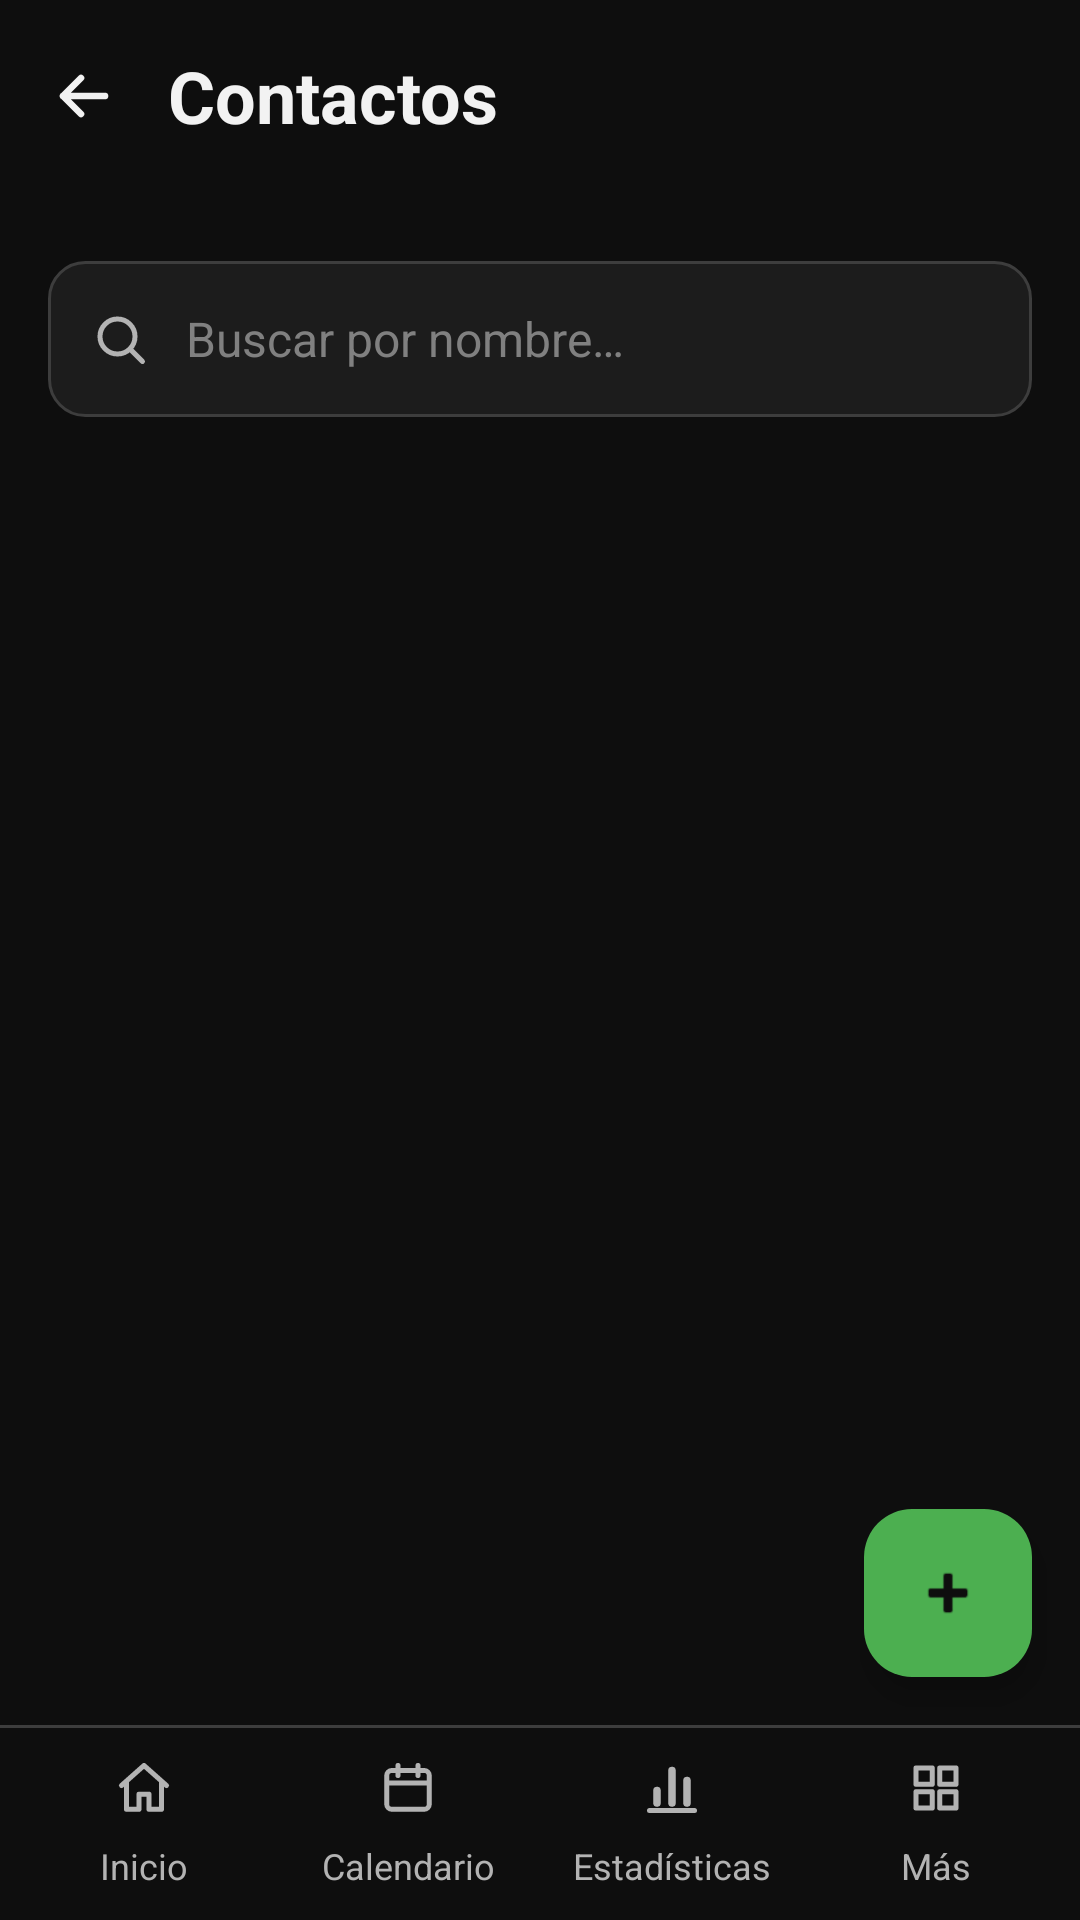

Icons on this 1080 × 1920 Android screen, each with its box as (x1,y1,x2,y2):
Agregar contacto: (864,1509,1032,1677)
Volver: (59,74,109,118)
